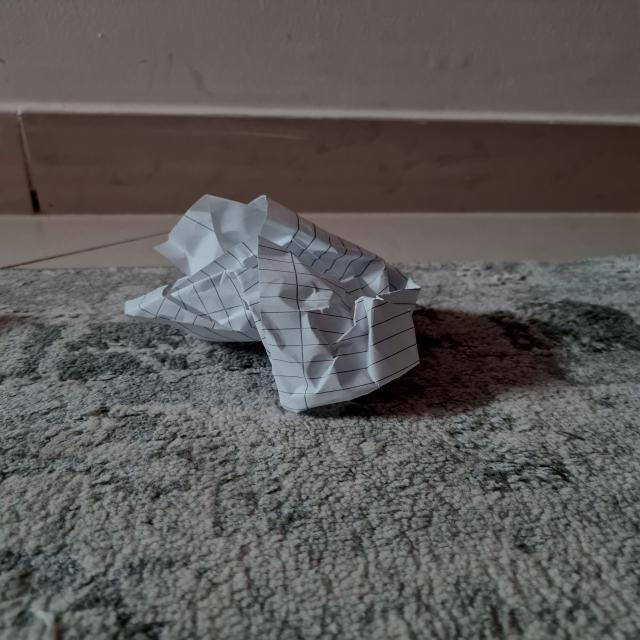Paper: (129, 193, 437, 419)
